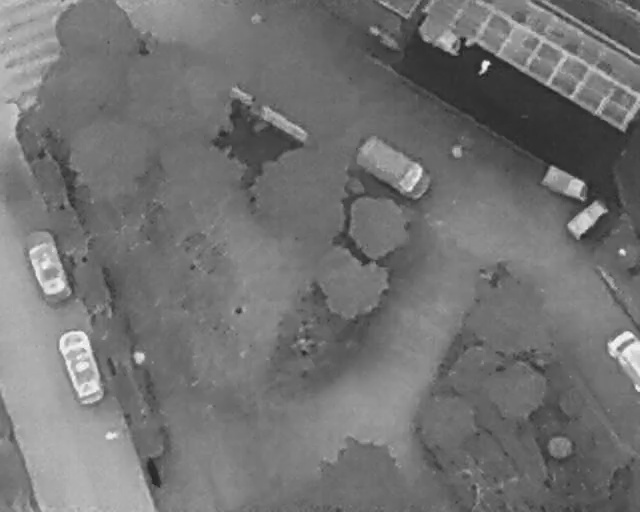Car: (351, 130, 437, 206), (53, 323, 110, 407), (20, 224, 73, 307), (538, 161, 593, 207), (605, 326, 639, 396), (564, 195, 611, 238)
Person: (481, 57, 491, 77)
